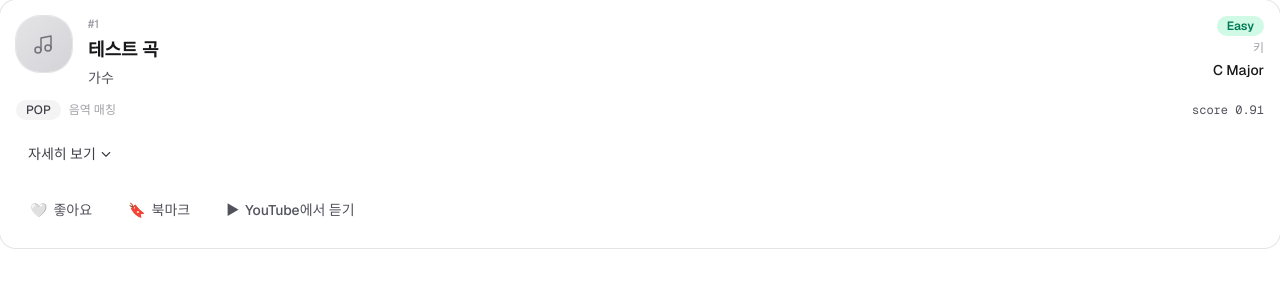
Test: SongCard › 좋아요 토글 (closes #176 + #184) › BE mutation 실패 시 인라인 alert 메시지가 노출된다
Click the button with aria-label "테스트 곡 좋아요": coordinates (61, 210) [16, 188, 106, 232]
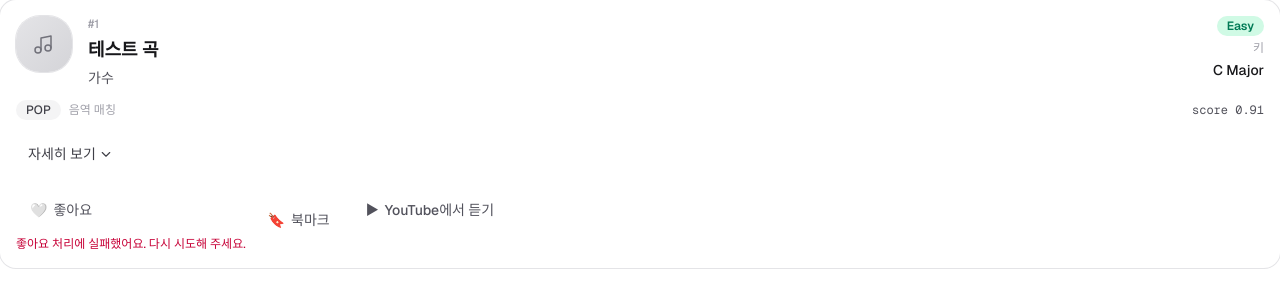
Now the message shows "좋아요 처리에 실패했어요", box [16, 236, 246, 252]
